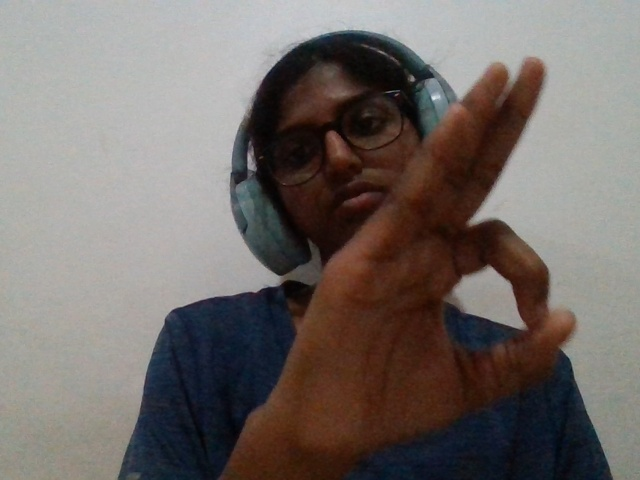F: (227, 47, 604, 480)
